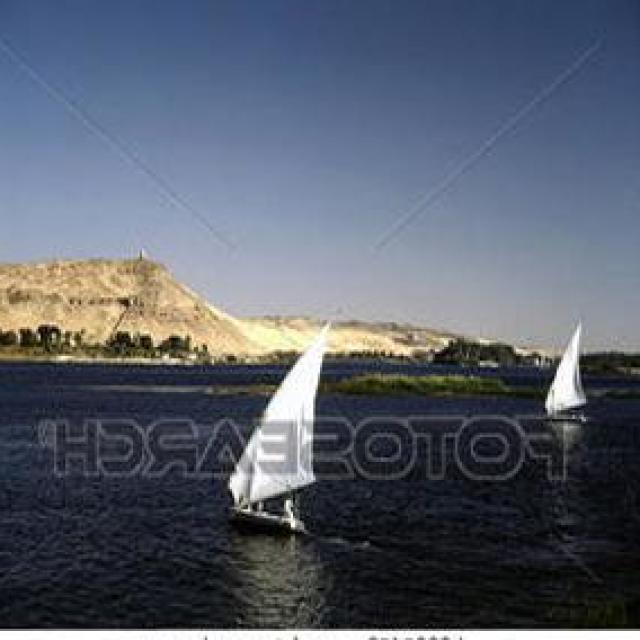sailboat: (228, 319, 338, 534), (544, 322, 600, 422)
